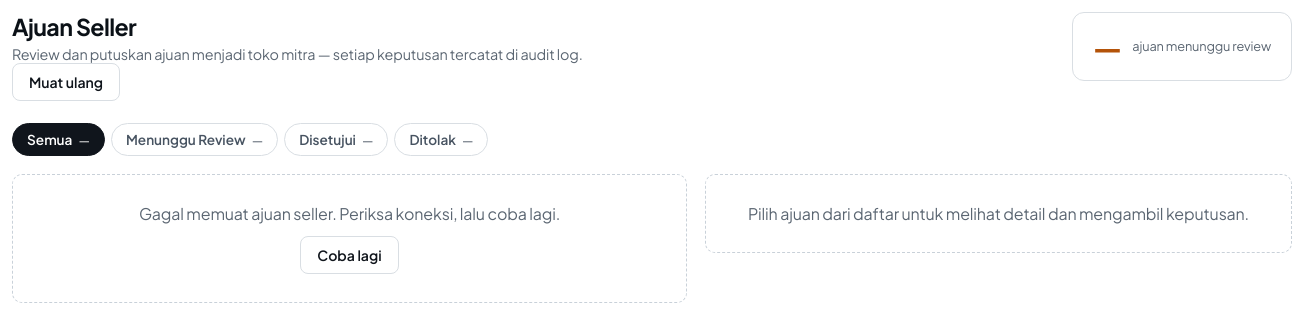
AdminApplications › kegagalan muat menampilkan error + coba lagi, lalu daftar muncul
Expected: the text "Gagal memuat ajuan seller. Periksa koneksi, lalu coba lagi." is shown, [139,203,560,224]
Click the button "Coba lagi" at (350, 255), box [300,236,399,274]
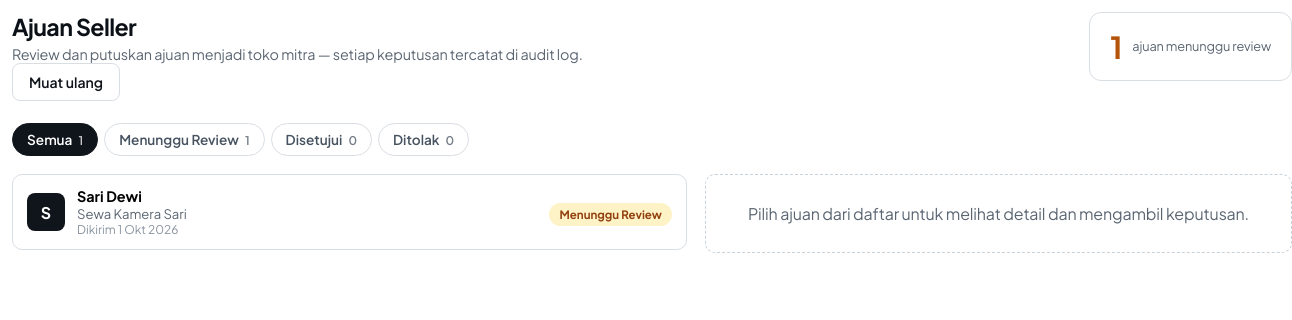
Result: the text "Sari Dewi" is shown at [77,187,142,205]
